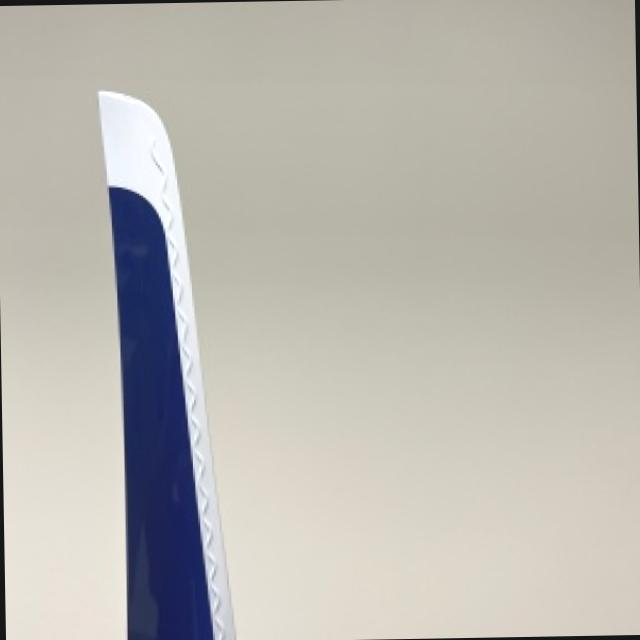healthy: (101, 91, 236, 640)
